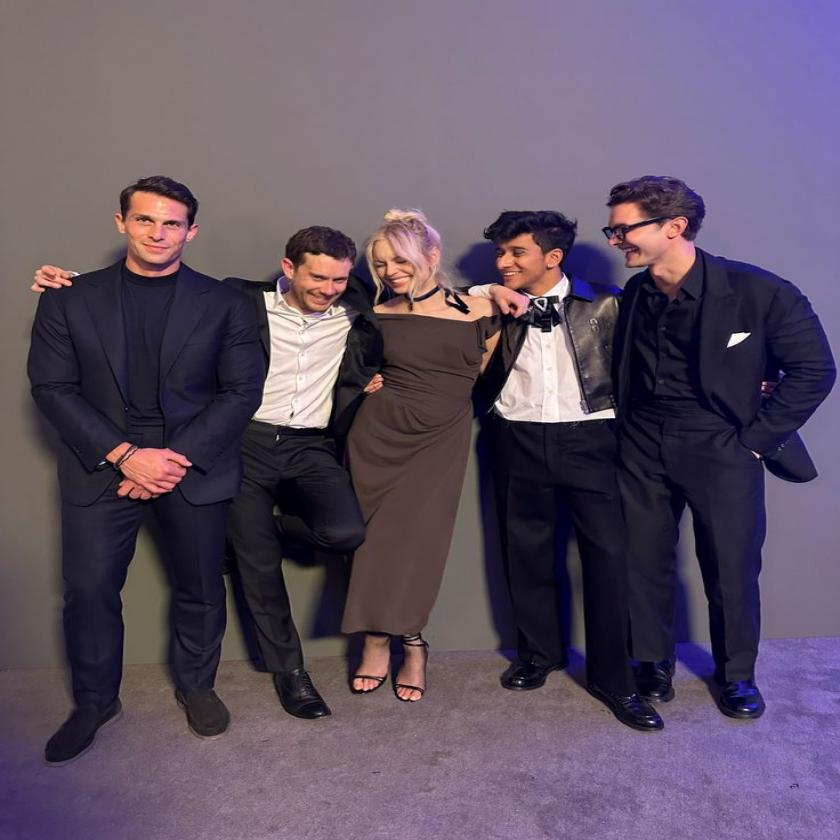Sin_casco: (606, 175, 712, 275), (109, 172, 207, 276), (481, 212, 584, 294), (276, 228, 357, 319), (364, 214, 450, 299)
